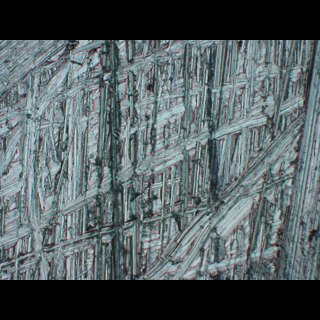d: (0, 40, 318, 278)
